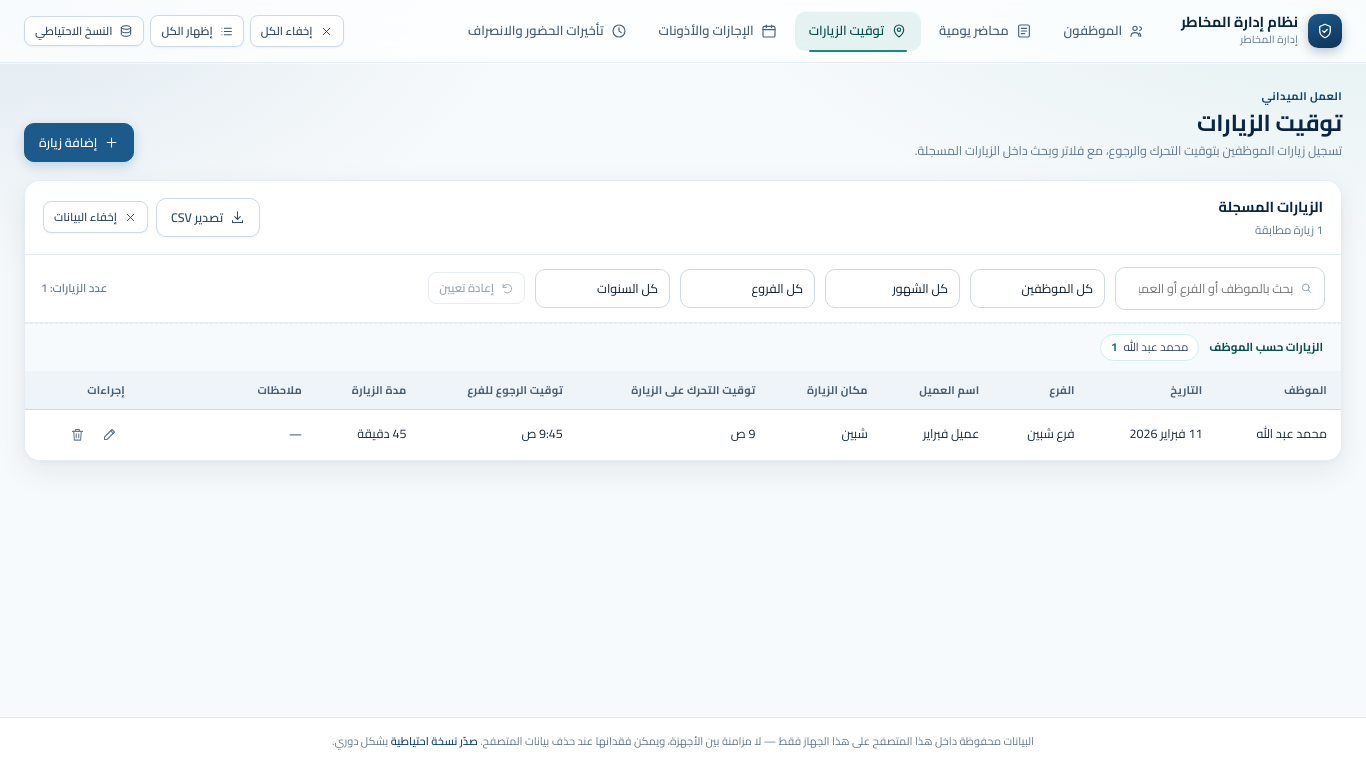
Test case: توقيت الزيارات › يفلتر الزيارات بالشهر والسنة ويستبعد الأشهر الأخرى ويحدّث بعد الحذف
Expected: the text "عميل فبراير" is shown, x1=882 y1=410 x2=993 y2=460
// اختيار شهر مارس 2026 (لا زيارات فيه)
Select "مارس" in the dropdown named "شهر الزيارة" at coordinates (892, 288), box x1=825 y1=268 x2=960 y2=308
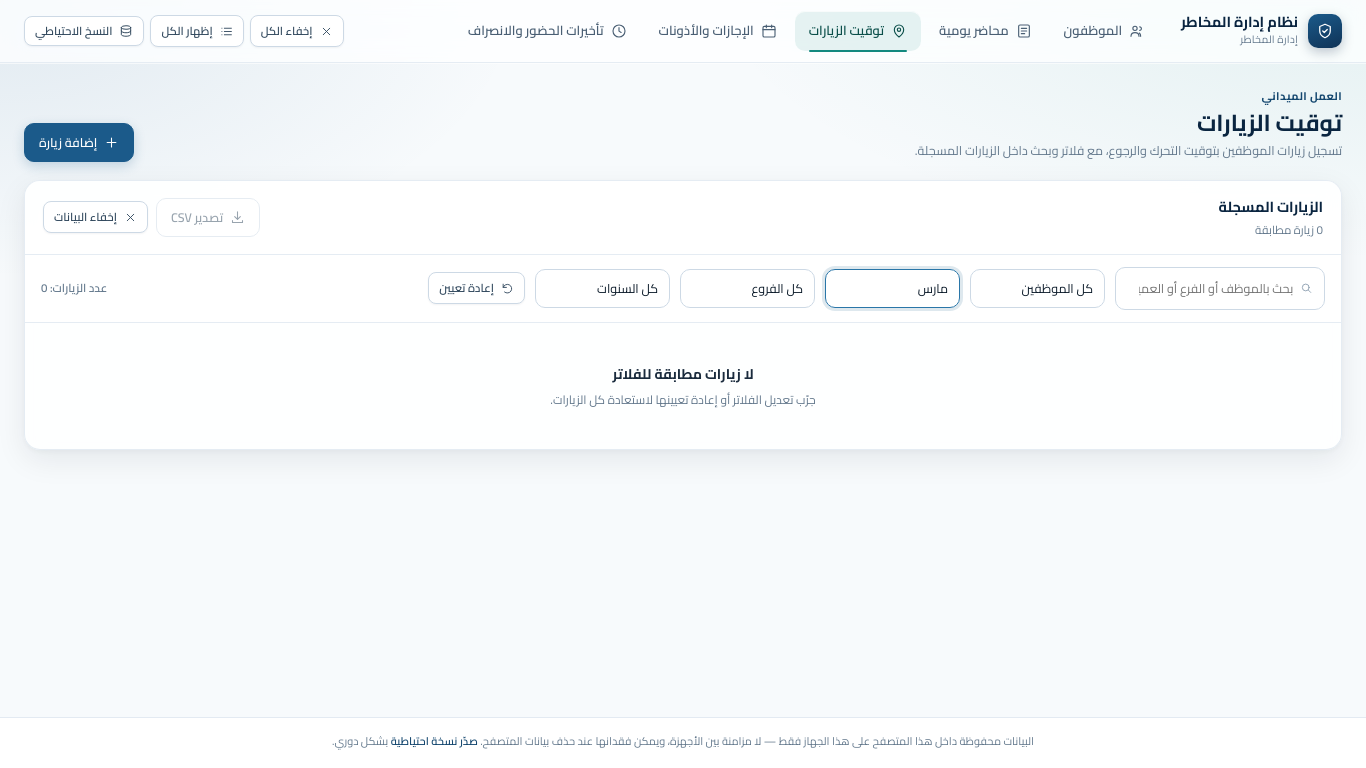
Select "2026" in the dropdown named "سنة الزيارة" at coordinates (602, 288), box x1=535 y1=268 x2=670 y2=308
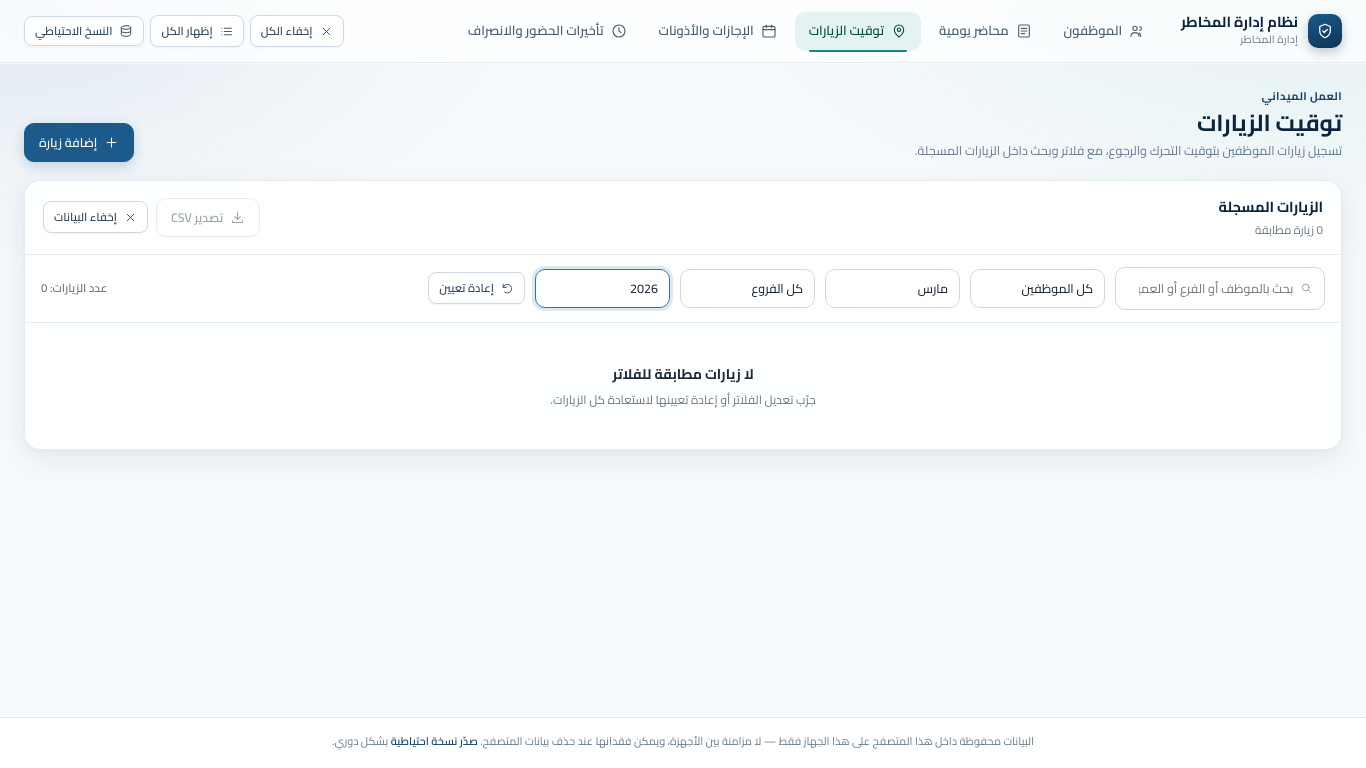
Now the text "لا زيارات مطابقة للفلاتر" is shown, box x1=612 y1=362 x2=754 y2=386
Now the text with test id "visit-count-total" shows "0", box x1=41 y1=277 x2=47 y2=299
// العودة إلى فبراير 2026
Select "فبراير" in the dropdown named "شهر الزيارة" at coordinates (892, 288), box x1=825 y1=268 x2=960 y2=308
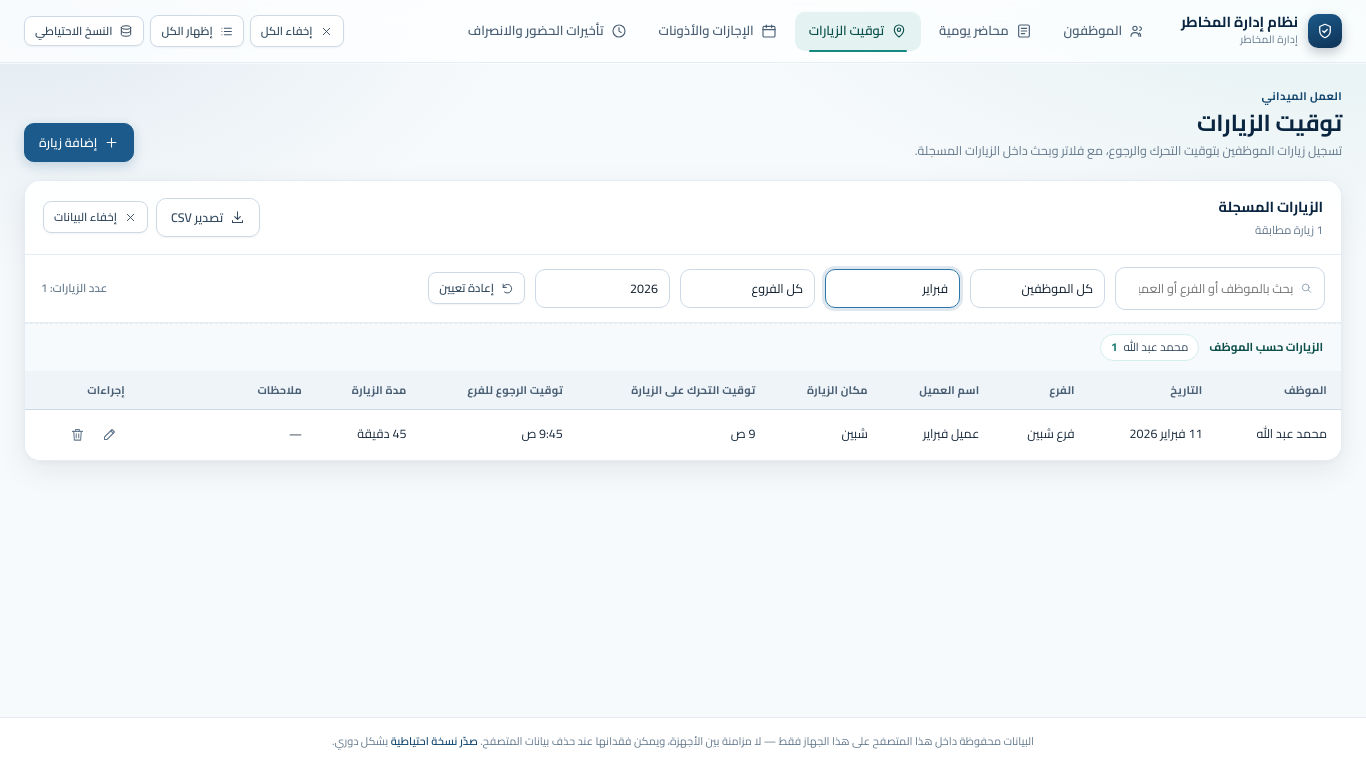
Now the text "عميل فبراير" is shown, box x1=882 y1=410 x2=993 y2=460
Now the text with test id "visit-count-total" shows "1", box x1=41 y1=277 x2=47 y2=299
// الحذف يحدّث القائمة والعدد
Click the button named "حذف" at coordinates (78, 435), box x1=63 y1=420 x2=93 y2=450
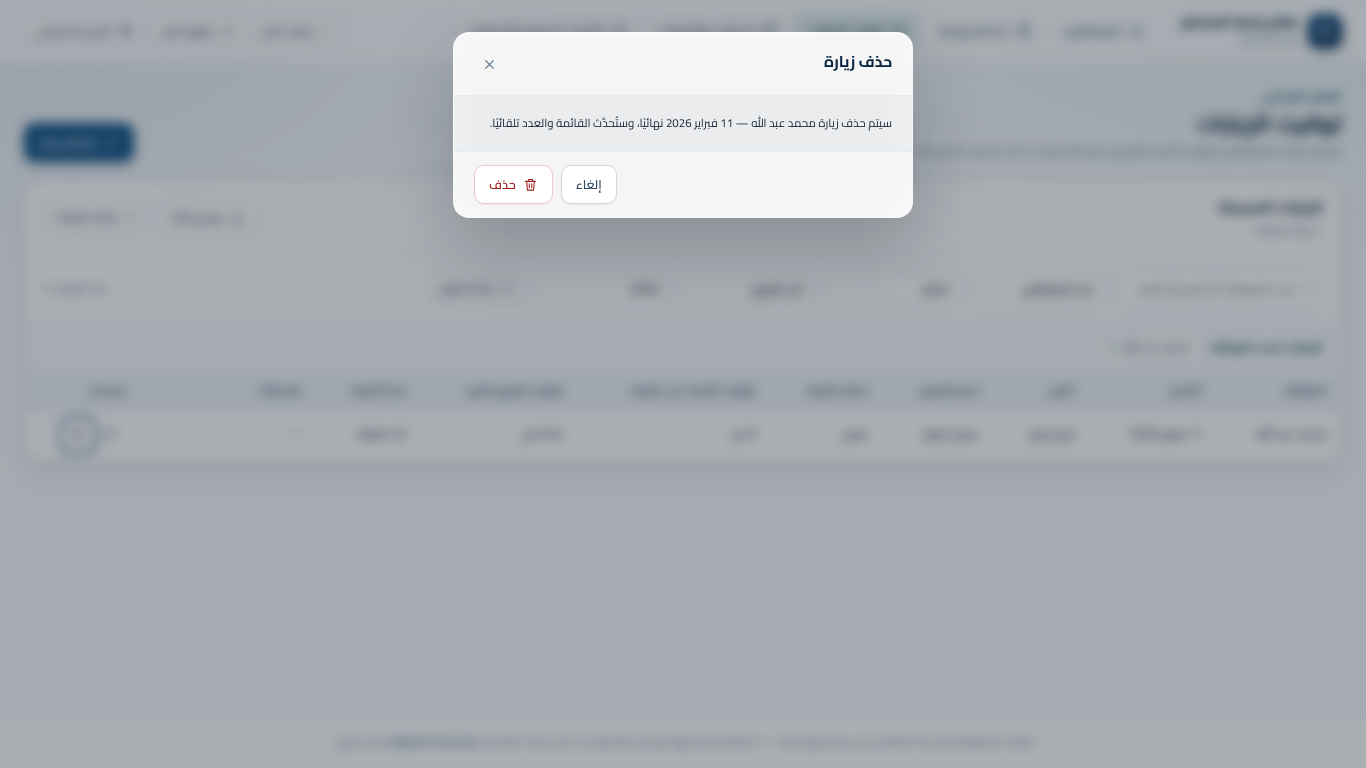
Click the button "حذف" at coordinates (513, 184), box x1=474 y1=165 x2=553 y2=204
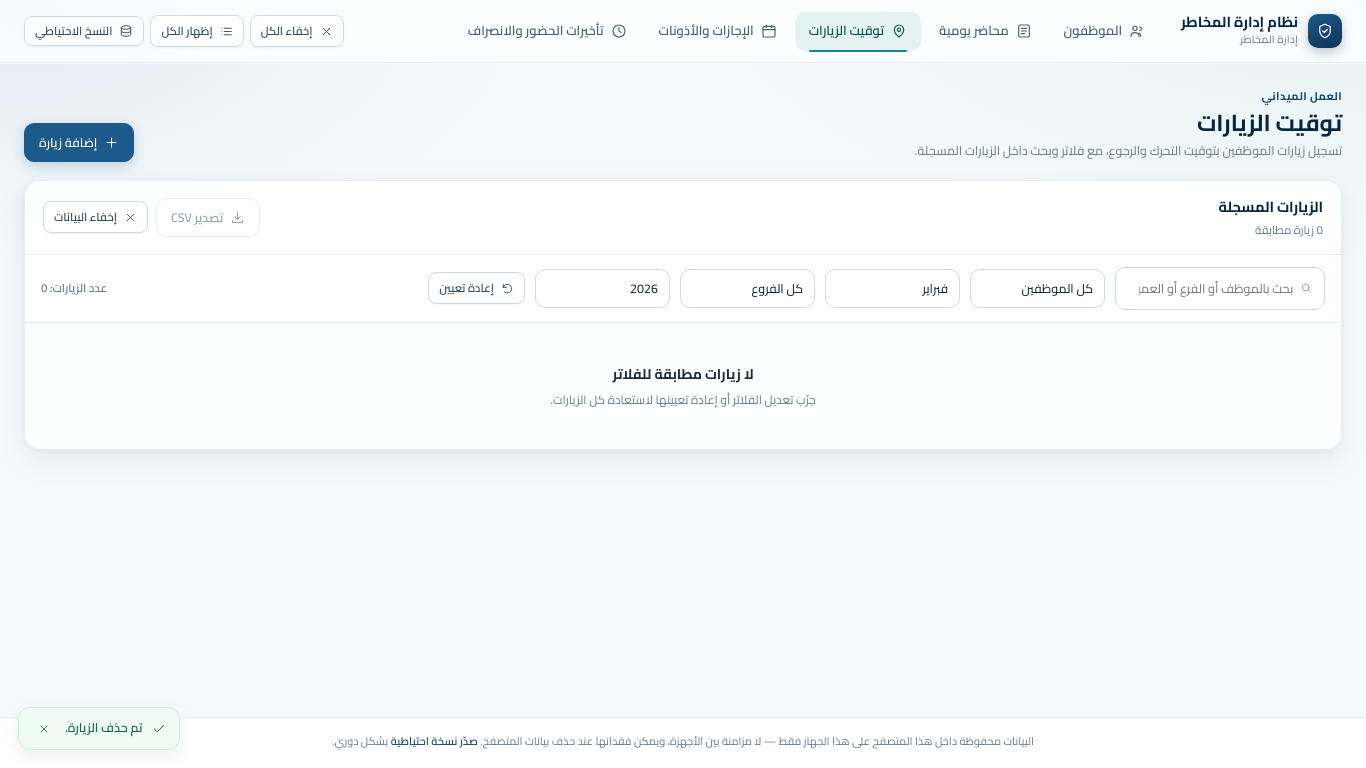
Now the text "لا زيارات مطابقة للفلاتر" is shown, box x1=612 y1=362 x2=754 y2=386
Now the text with test id "visit-count-total" shows "0", box x1=41 y1=277 x2=47 y2=299
